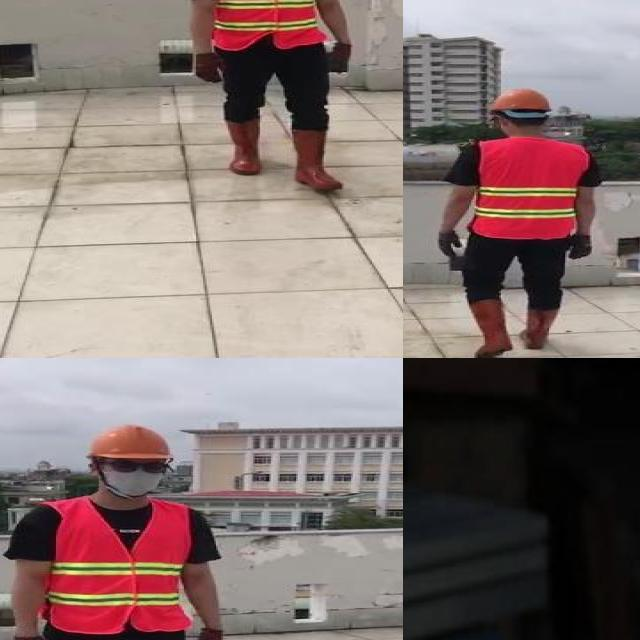boots: (287, 129, 340, 194), (465, 299, 511, 358), (221, 116, 263, 175), (519, 306, 563, 350)
face_mask: (103, 456, 165, 496)
glasses: (106, 456, 170, 476)
hand_glove: (192, 54, 226, 84), (566, 233, 592, 261), (435, 230, 462, 256), (333, 40, 351, 72), (193, 628, 223, 640)
head_helmet: (431, 86, 600, 358), (86, 422, 174, 461), (487, 86, 554, 113)
person: (0, 420, 232, 640), (178, 0, 364, 197)
vest: (40, 500, 191, 633), (472, 139, 586, 241), (210, 0, 324, 49)
